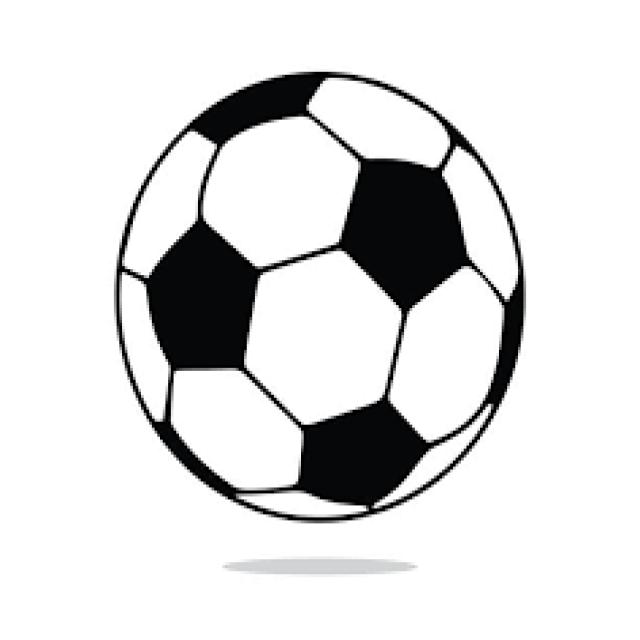ball: (115, 70, 525, 524)
